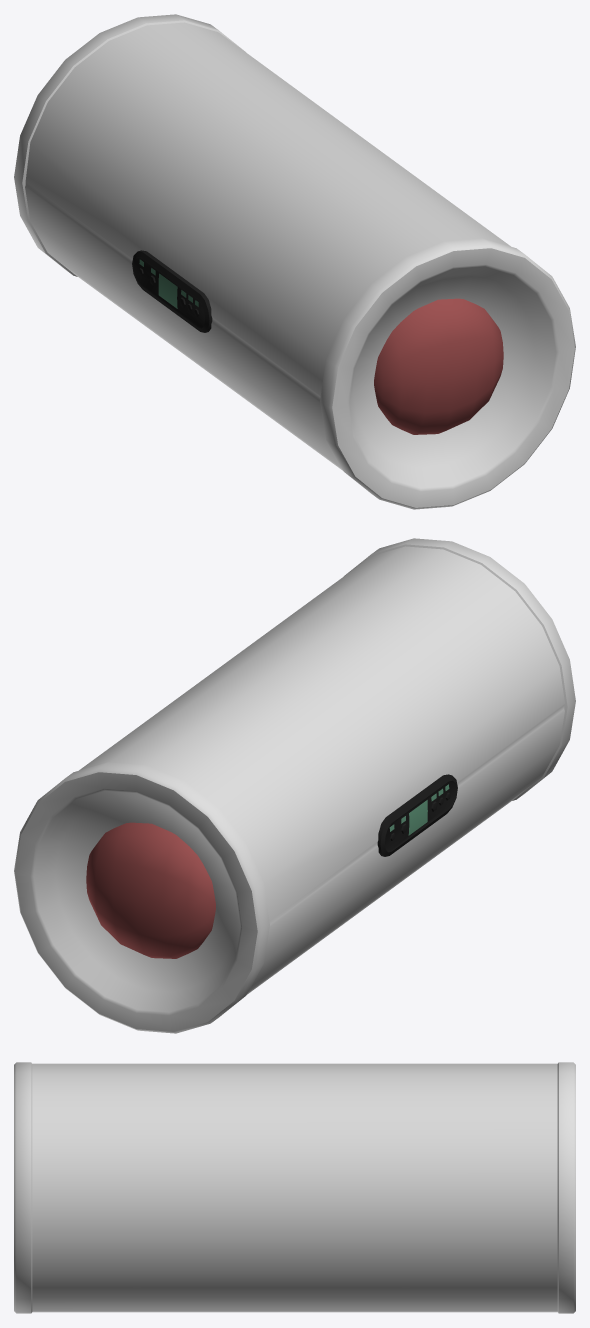
File: SiemensDG10150TI.FBX
The picture shows the model from 3 angles, top to bottom: view 1: azimuth 30°, elevation 25°; view 2: azimuth 150°, elevation 25°; view 3: azimuth 270°, elevation 25°; orthographic projection. The views are drawn at different scales.
Visible parts, largest first — view 1: SiemensDG10150TI; view 2: SiemensDG10150TI; view 3: SiemensDG10150TI.
Part boxes in pixels (bbox=[...]): SiemensDG10150TI: bbox=[14, 14, 575, 509]; SiemensDG10150TI: bbox=[14, 538, 575, 1033]; SiemensDG10150TI: bbox=[14, 1062, 575, 1313].
Size of the model in its own units: 46.66 by 102 by 46.
